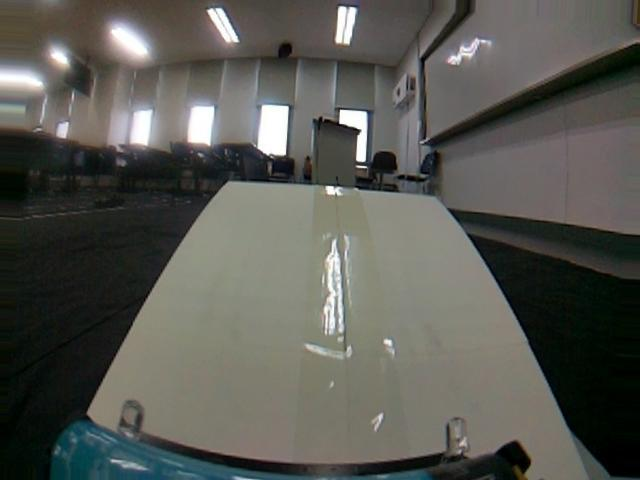hill_up: (16, 183, 640, 480)
